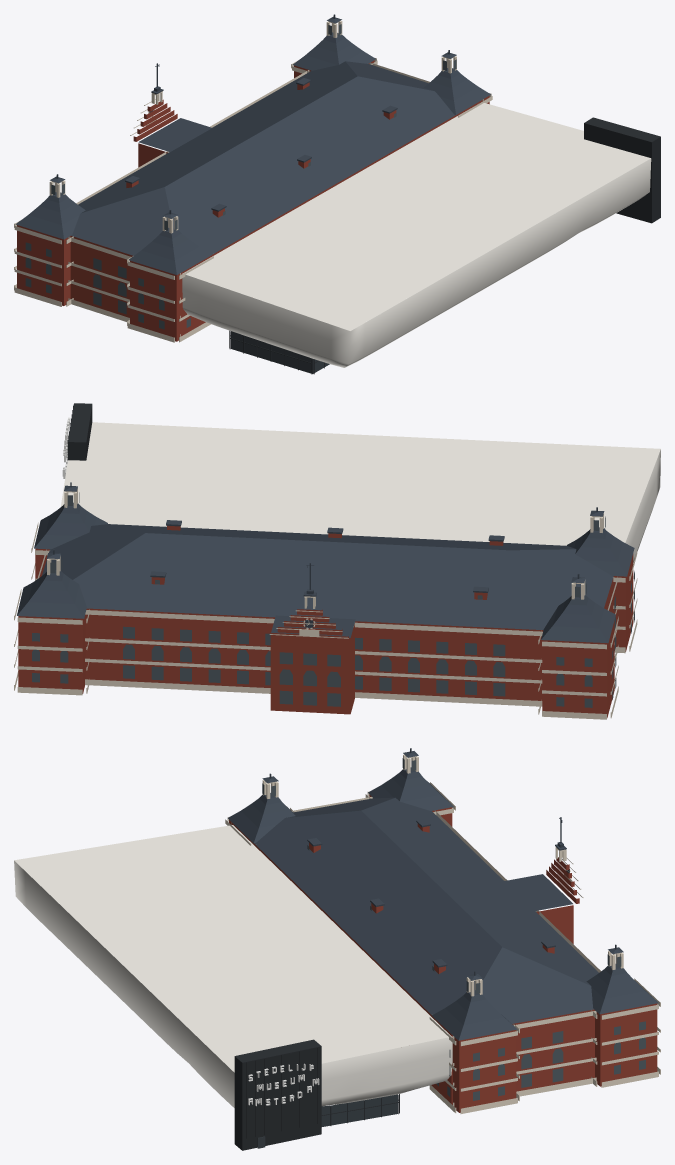
The model's file is stedelijk-museum-far.glb.
3 views of the same model, one above another, from view 1: azimuth 30°, elevation 25°; view 2: azimuth 150°, elevation 25°; view 3: azimuth 270°, elevation 25° (orthographic). The views are drawn at different scales.
Parts seen in each view (by area): view 1: stedelijk-museum-0-white, stedelijk-museum-0-slate, stedelijk-museum-0-brick, stedelijk-museum-0-stone, stedelijk-museum-0-mesh, stedelijk-museum-0-glass, stedelijk-museum-0-light; view 2: stedelijk-museum-0-white, stedelijk-museum-0-slate, stedelijk-museum-0-brick, stedelijk-museum-0-stone, stedelijk-museum-0-glass, stedelijk-museum-0-mesh; view 3: stedelijk-museum-0-white, stedelijk-museum-0-slate, stedelijk-museum-0-brick, stedelijk-museum-0-mesh, stedelijk-museum-0-stone, stedelijk-museum-0-glass, stedelijk-museum-0-light, stedelijk-museum-0-sign.
Boxes of the visible parts, <box> form: stedelijk-museum-0-white: <box>182,103,651,367</box>; stedelijk-museum-0-slate: <box>15,14,490,274</box>; stedelijk-museum-0-brick: <box>17,60,489,341</box>; stedelijk-museum-0-stone: <box>14,20,492,342</box>; stedelijk-museum-0-mesh: <box>229,117,660,374</box>; stedelijk-museum-0-glass: <box>25,24,456,329</box>; stedelijk-museum-0-light: <box>231,331,329,373</box>; stedelijk-museum-0-white: <box>61,422,660,562</box>; stedelijk-museum-0-slate: <box>17,482,634,643</box>; stedelijk-museum-0-brick: <box>18,525,633,717</box>; stedelijk-museum-0-stone: <box>14,488,637,719</box>; stedelijk-museum-0-glass: <box>32,492,634,707</box>; stedelijk-museum-0-mesh: <box>67,403,92,460</box>; stedelijk-museum-0-white: <box>14,825,452,1107</box>; stedelijk-museum-0-slate: <box>228,748,658,1040</box>; stedelijk-museum-0-brick: <box>229,794,657,1112</box>; stedelijk-museum-0-mesh: <box>234,1039,399,1150</box>; stedelijk-museum-0-stone: <box>225,754,660,1113</box>; stedelijk-museum-0-glass: <box>262,758,645,1100</box>; stedelijk-museum-0-light: <box>257,1094,397,1148</box>; stedelijk-museum-0-sign: <box>248,1063,319,1106</box>.
Size of the model in its own units: 124 by 28 by 113.
